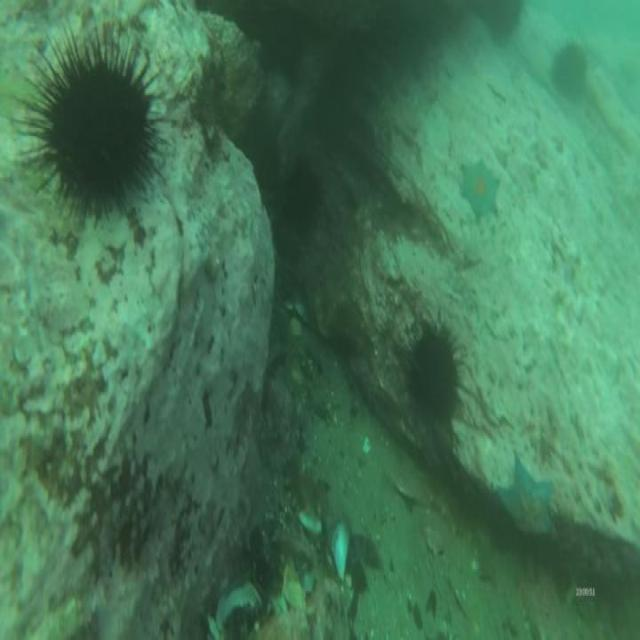echinus: (46, 60, 150, 209), (405, 329, 459, 425), (287, 163, 320, 232), (553, 44, 586, 101)
starfish: (496, 452, 554, 547), (458, 160, 500, 221)
